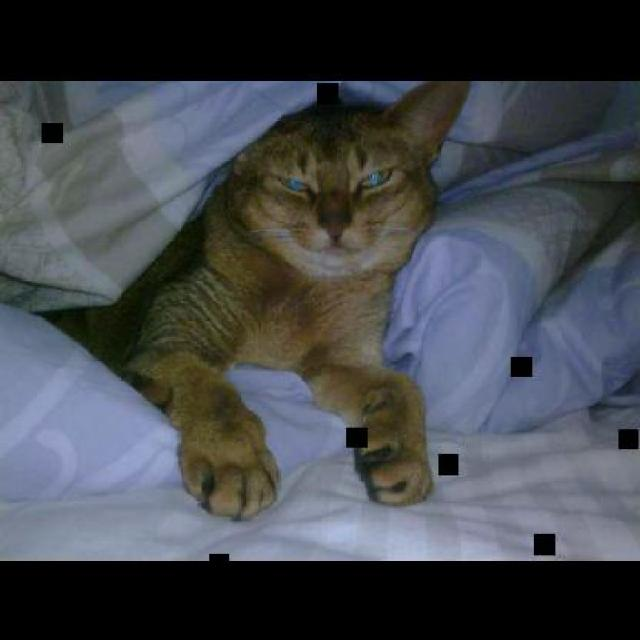unauthorized: (40, 77, 471, 521)
